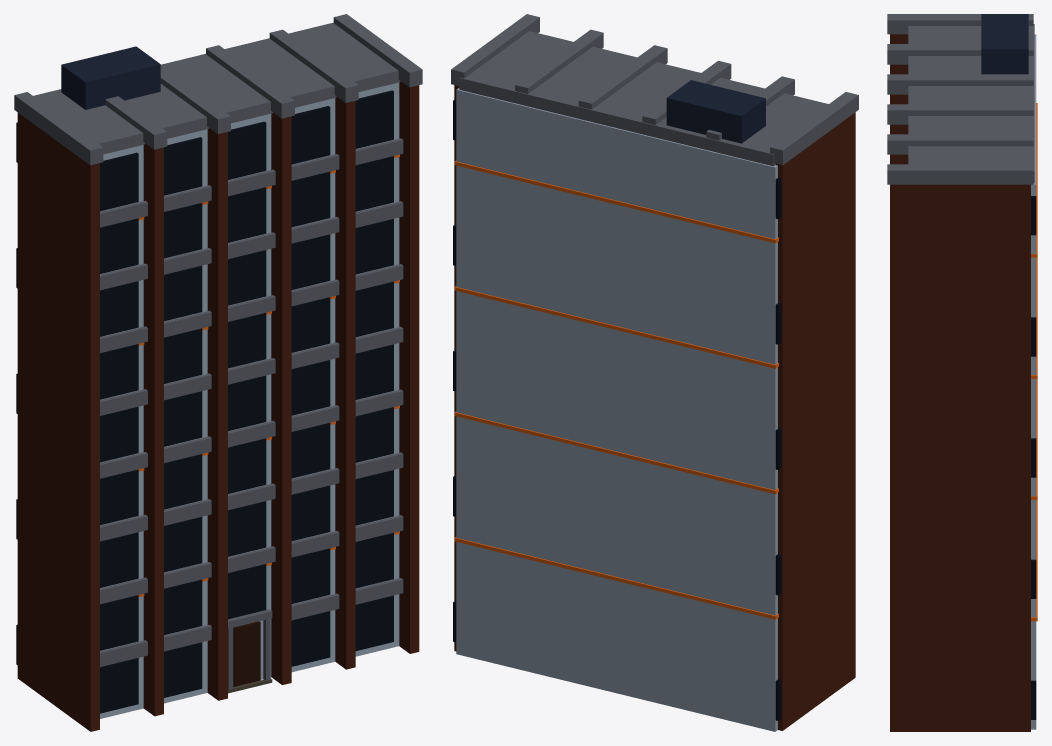
File: tower2.obj
3 renders of one model, left to right at view 1: azimuth 30°, elevation 25°; view 2: azimuth 150°, elevation 25°; view 3: azimuth 270°, elevation 25°, orthographic. The views are drawn at different scales.
Parts seen in each view (by area): view 1: crosswalls, slot-glazing, slot-spandrels, body, roof, wall-caps, roof-plant, entrance, canopy-brackets; view 2: body, crosswalls, roof, wall-caps, window-lights, roof-plant, windows; view 3: crosswalls, wall-caps, roof, roof-plant, body, windows, window-lights.
Part boxes in pixels (x1,y1,x2,y2): crosswalls: [17, 81, 419, 731]; slot-glazing: [100, 90, 393, 713]; slot-spandrels: [100, 138, 403, 666]; body: [100, 82, 399, 718]; roof: [33, 22, 400, 154]; wall-caps: [14, 14, 422, 165]; roof-plant: [61, 46, 160, 109]; entrance: [233, 621, 260, 686]; canopy-brackets: [228, 616, 270, 689]; body: [456, 88, 777, 731]; crosswalls: [454, 85, 855, 730]; roof: [459, 31, 828, 166]; wall-caps: [451, 14, 858, 164]; window-lights: [454, 160, 778, 619]; roof-plant: [666, 80, 765, 143]; windows: [453, 99, 781, 720]; crosswalls: [890, 34, 1030, 731]; wall-caps: [887, 14, 1033, 184]; roof: [908, 24, 1034, 183]; roof-plant: [981, 14, 1028, 74]; body: [1031, 34, 1036, 729]; windows: [1031, 196, 1036, 719]; window-lights: [1031, 103, 1037, 621].
Size of the model in its own units: 7.08 by 12.3 by 2.88.
